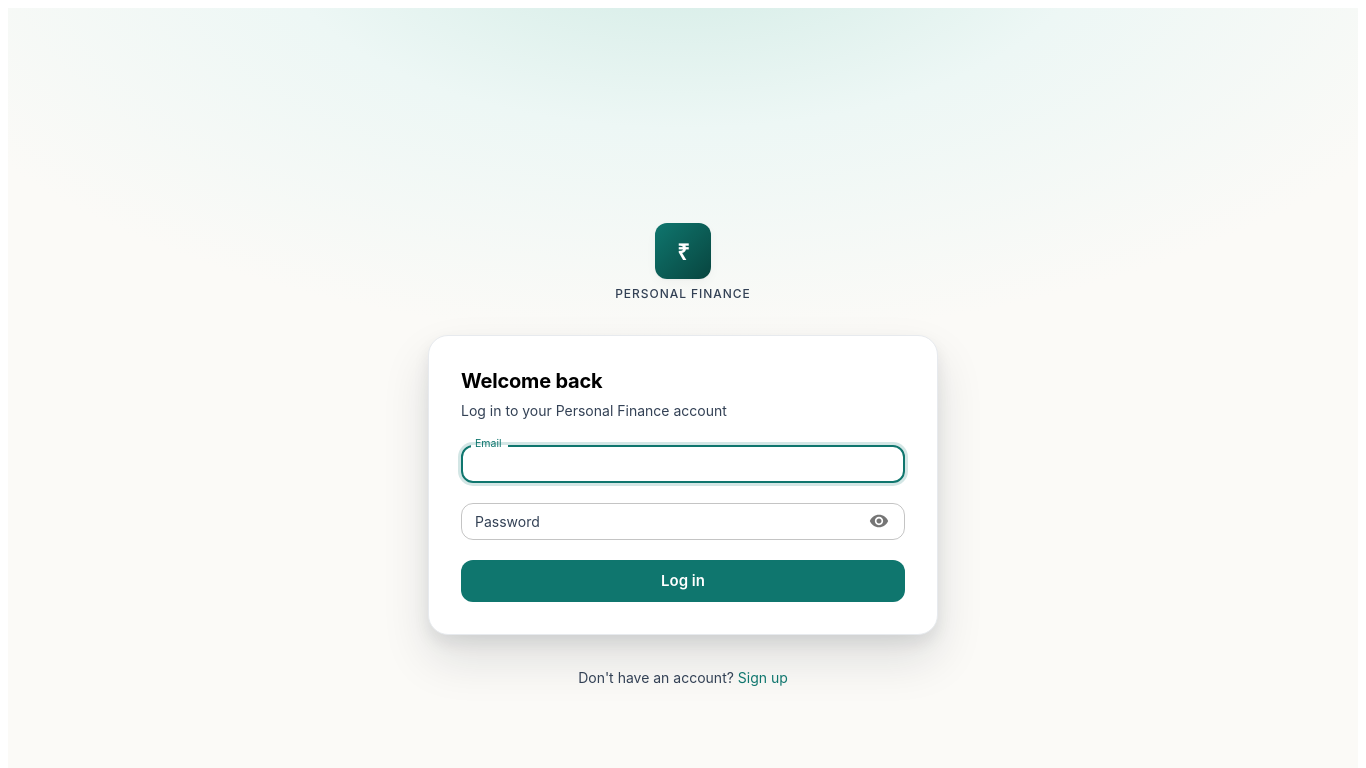
LoginPage › shows a validation error for an invalid email
Type "not-an-email" into the field labelled "Email" at (683, 464), box top-left (461, 445), bottom-right (905, 482)
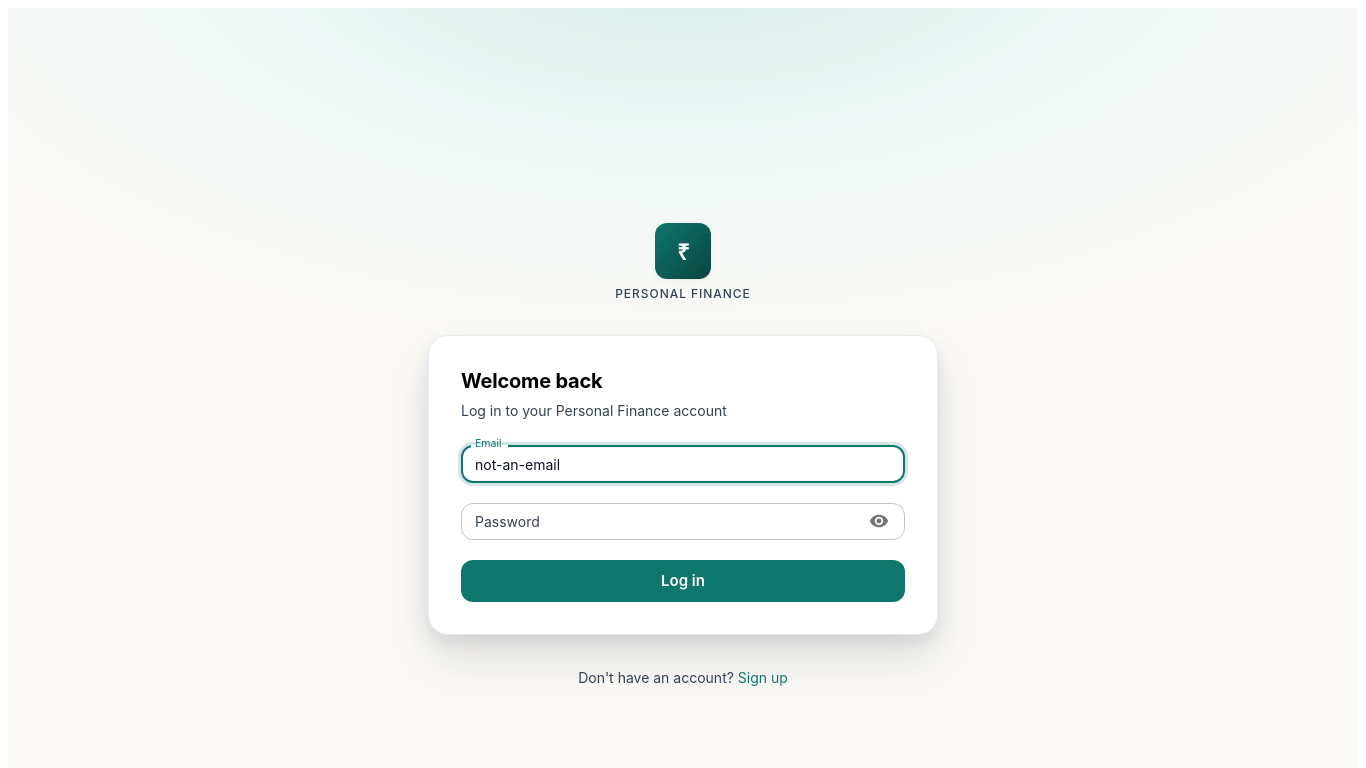
Press Tab
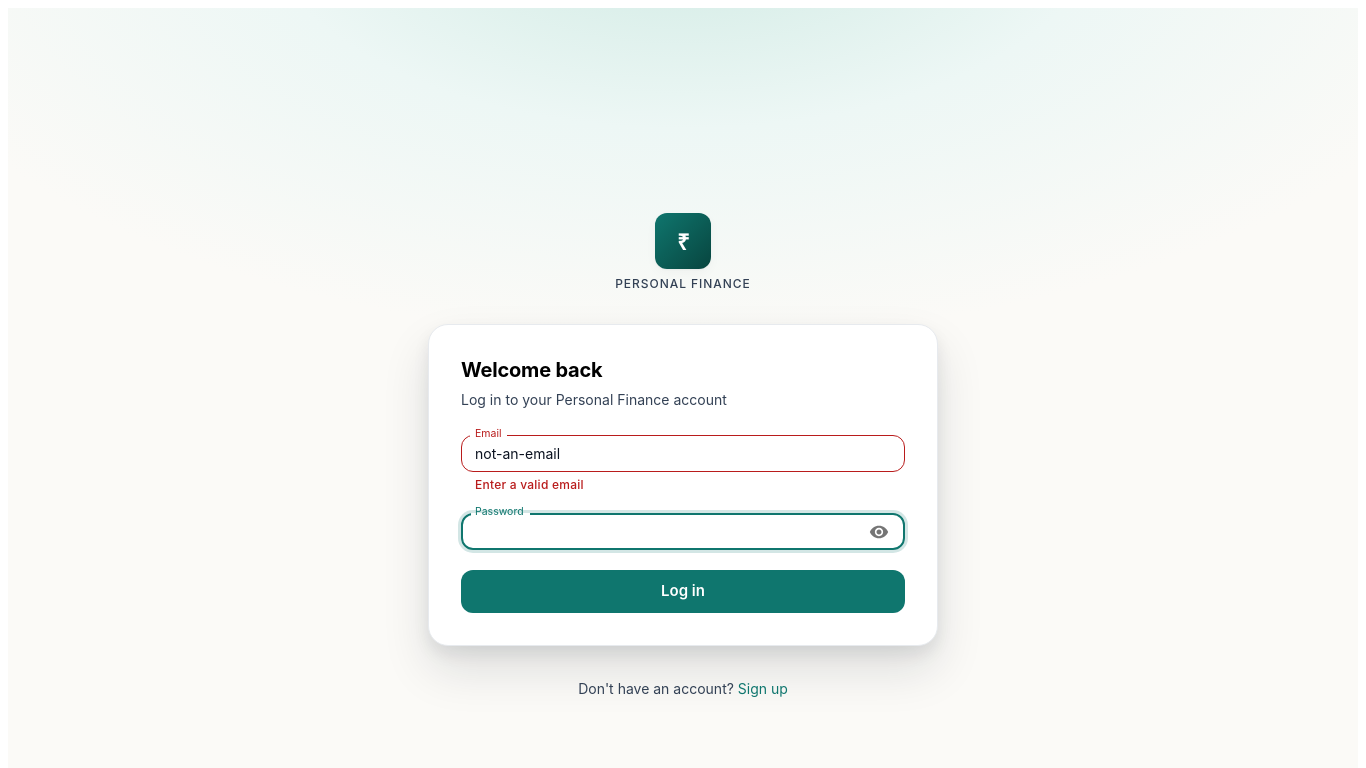
Expected: the text "Enter a valid email" is shown, top-left (475, 477), bottom-right (584, 492)
